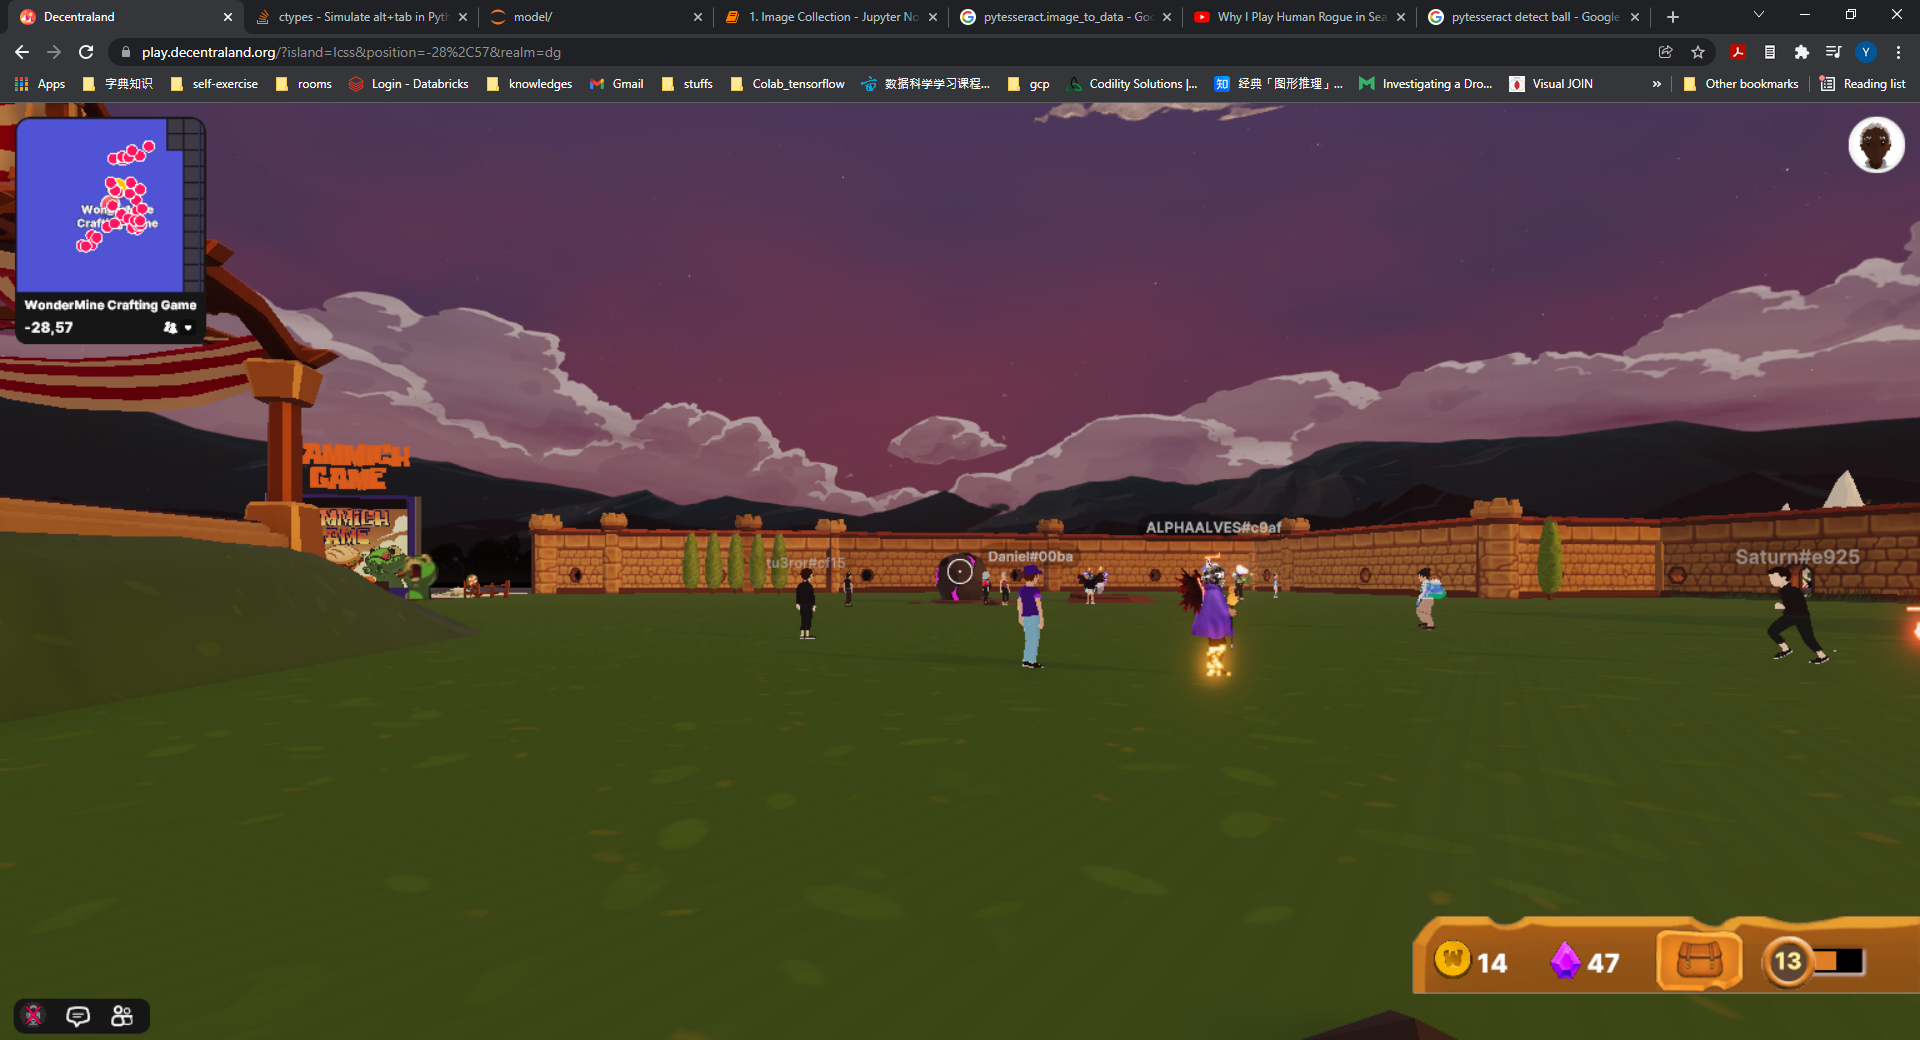black_ball: (918, 547, 1004, 624)
